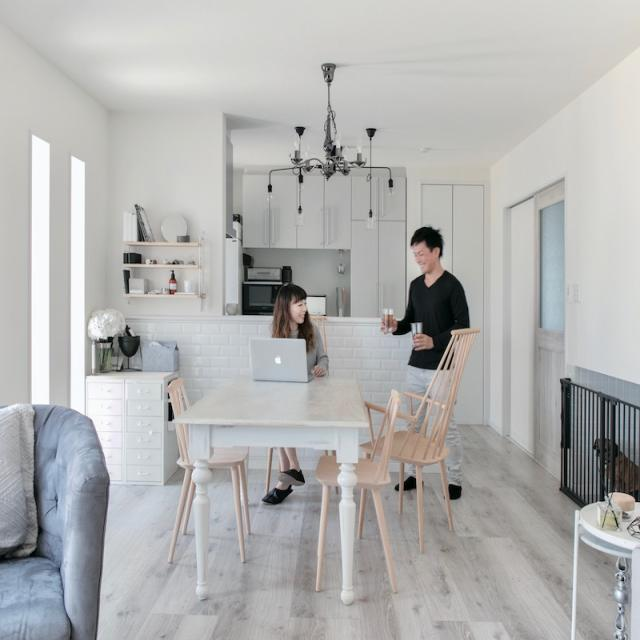white chair: (372, 340, 473, 530)
white desk: (173, 354, 367, 584)
